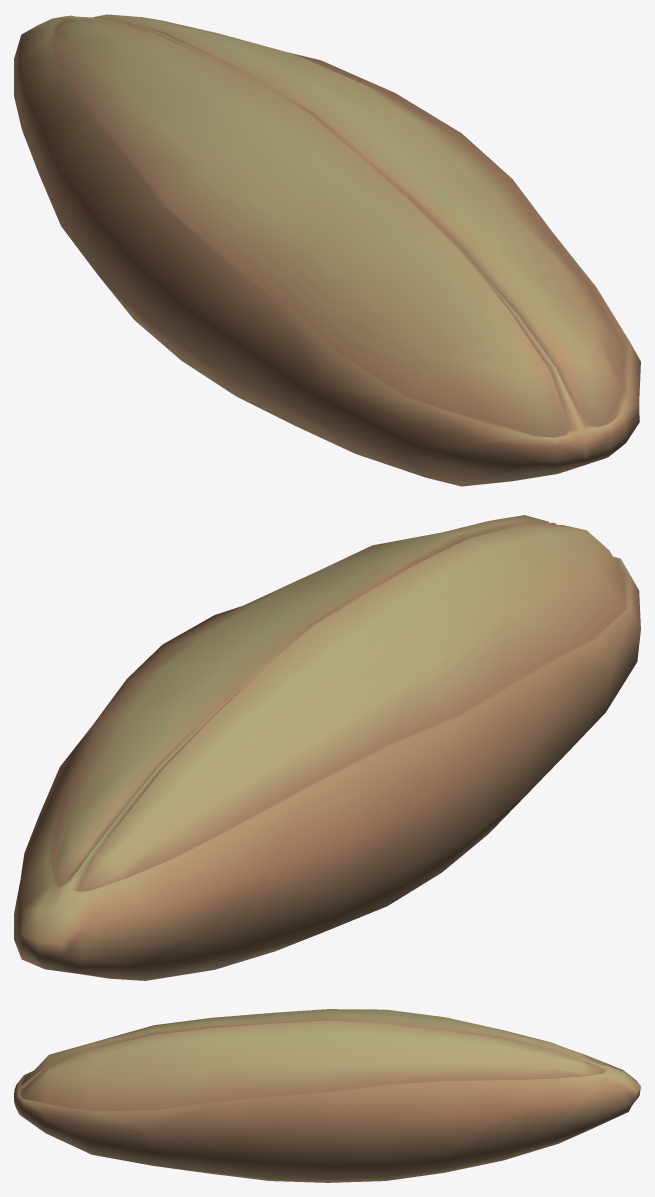
The model's file is trees-seeds-nuts-oat-grain_v2.fbx.
3 renders of one model, top to bottom at view 1: azimuth 30°, elevation 25°; view 2: azimuth 150°, elevation 25°; view 3: azimuth 270°, elevation 25°, orthographic. The views are drawn at different scales.
Visible parts, largest first — view 1: Oat Grain_v2; view 2: Oat Grain_v2; view 3: Oat Grain_v2.
Part boxes in pixels (left/top/right/bottom): Oat Grain_v2: left=14, top=14, right=640, bottom=486; Oat Grain_v2: left=14, top=515, right=640, bottom=980; Oat Grain_v2: left=14, top=1009, right=640, bottom=1182.
Size of the model in its own units: 0.00436 by 0.00318 by 0.012.
